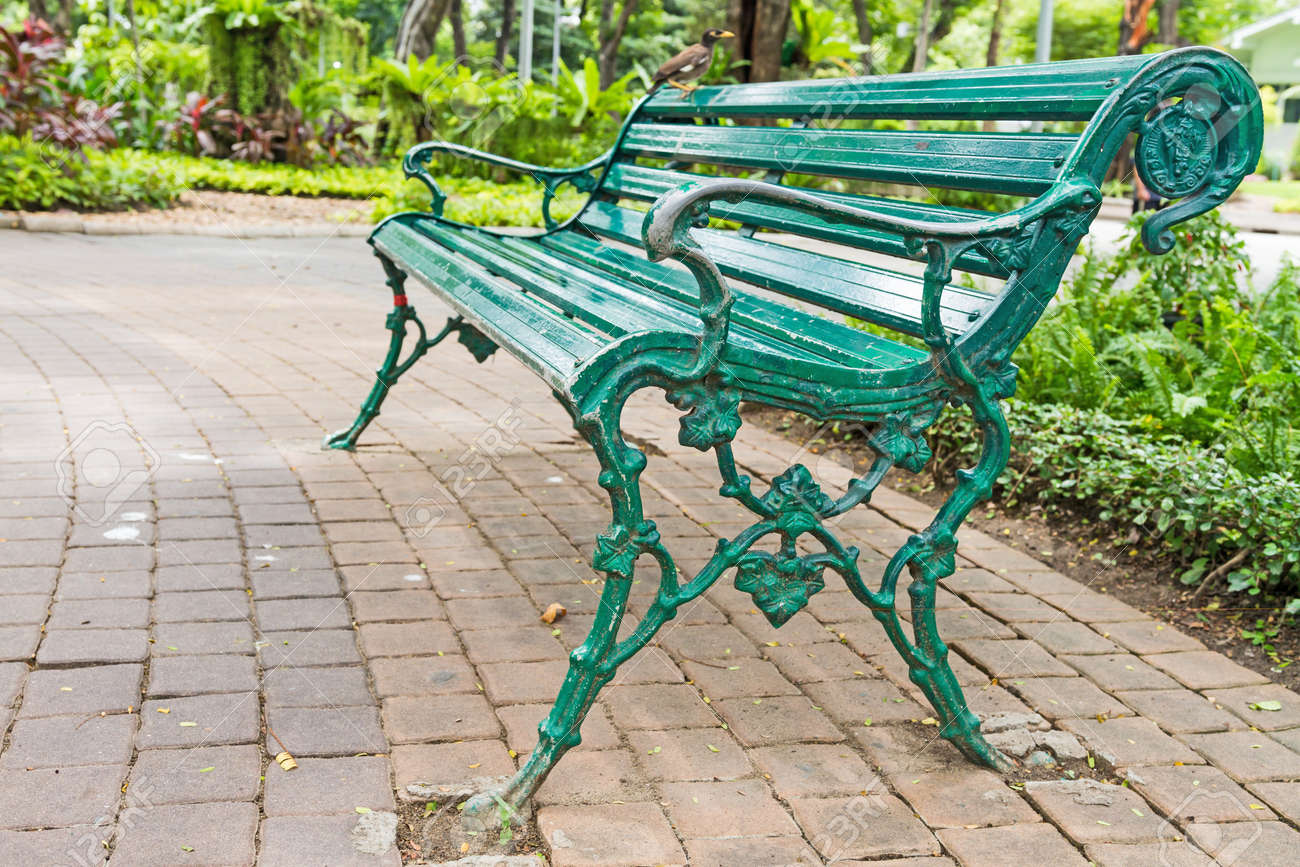Chair: (330, 46, 1281, 816)
